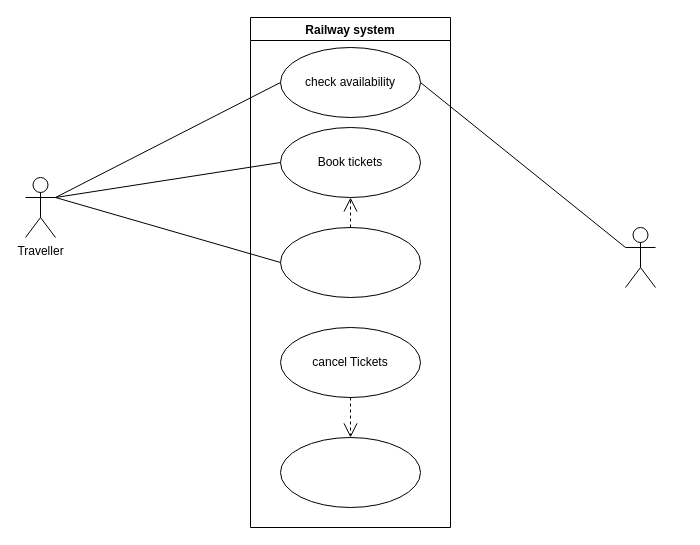
Image size: 700x545. Some labels were removed from this diagram. The shapes that lost their labels are listed below. From the top down, each one's centre as x and y in pixels, then its label:
At (x=350, y=262): "Fill in Personal Information".
At (x=640, y=257): "Railway website".
At (x=350, y=472): "Refund money".
